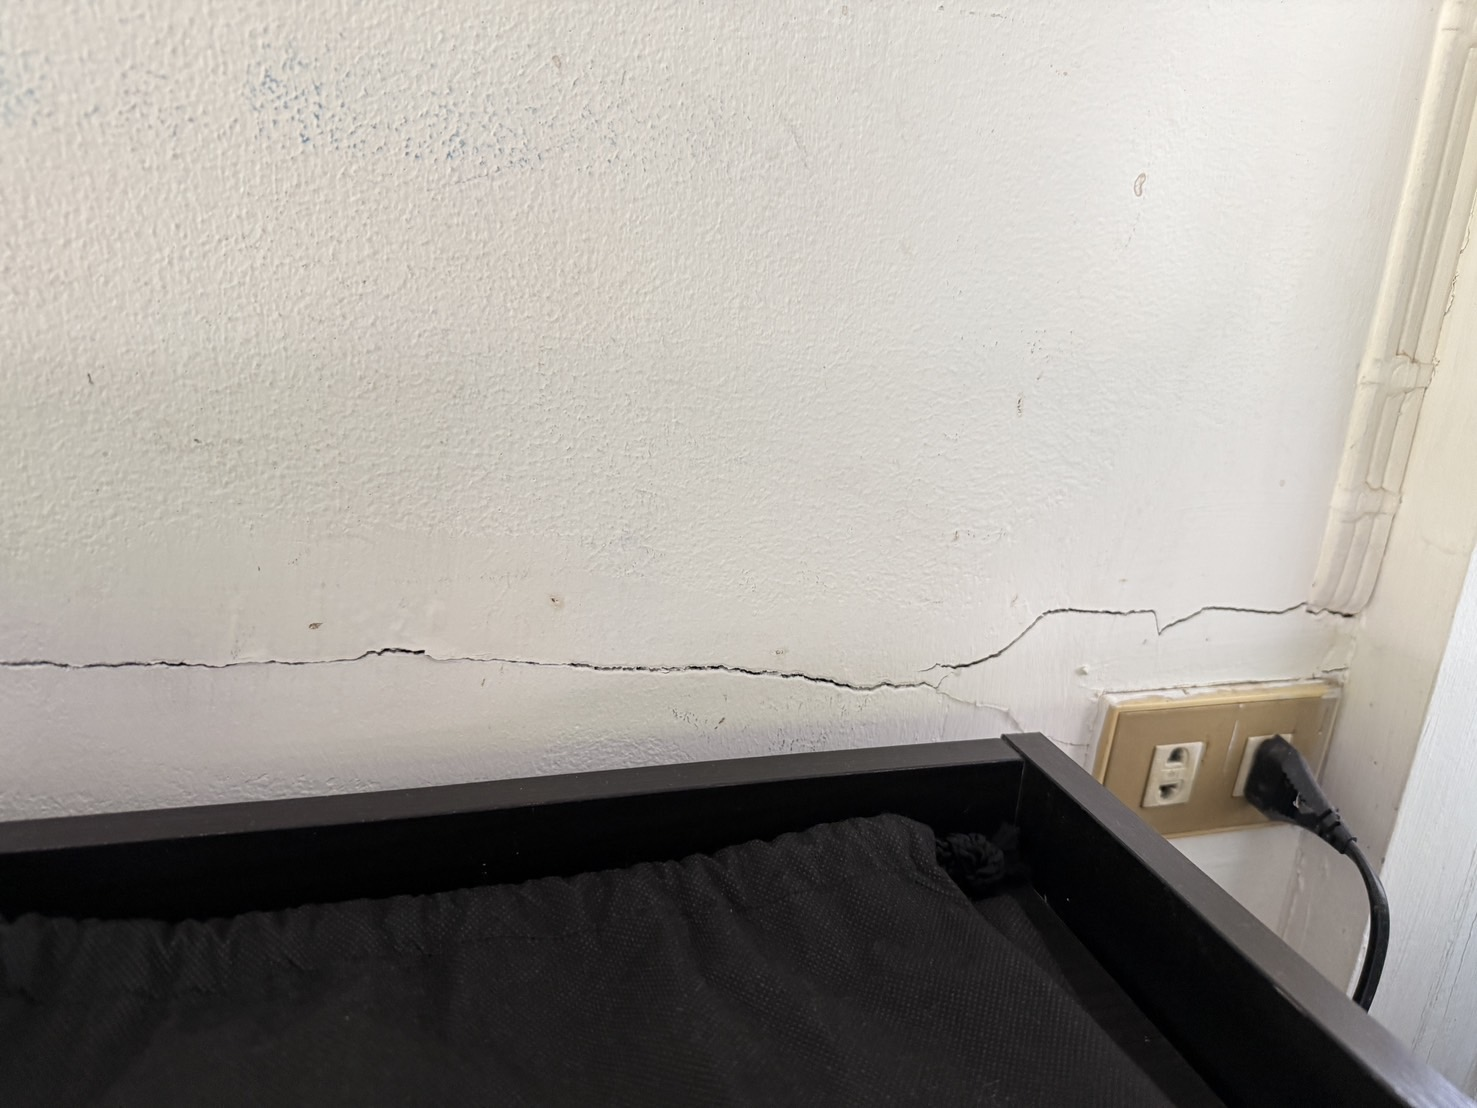Low: (1, 585, 1387, 729)
